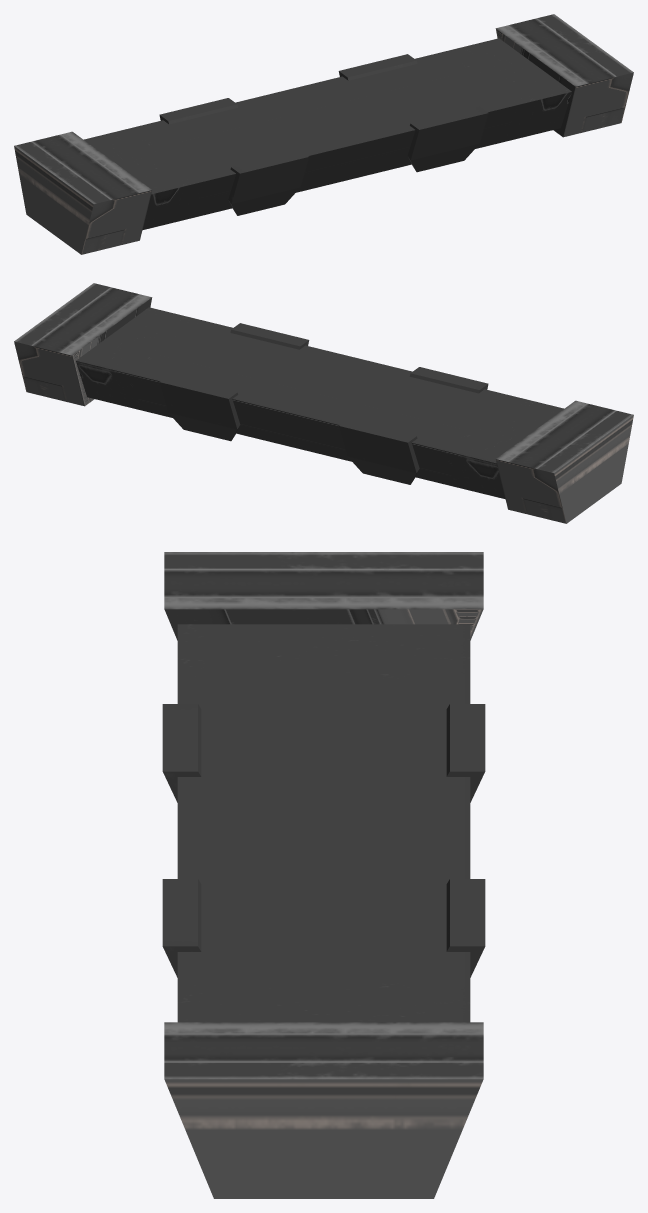
Rendered from S_PropLightSmall.gltf.
The picture shows the model from 3 angles, top to bottom: view 1: azimuth 30°, elevation 25°; view 2: azimuth 150°, elevation 25°; view 3: azimuth 270°, elevation 25°; orthographic projection. The views are drawn at different scales.
Visible parts, largest first — view 1: Cube_053; view 2: Cube_053; view 3: Cube_053.
Part boxes in pixels (x1,y1,x2,y2): Cube_053: [14, 14, 633, 254]; Cube_053: [14, 283, 633, 523]; Cube_053: [162, 552, 485, 1198].
Bounding box in the file's own units: 1.72 × 0.1819 × 0.4453.
Materials: 2 (1 with a texture image).
